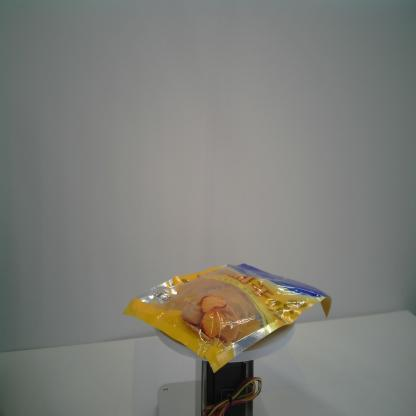Dried Fruit: (123, 262, 332, 374)
